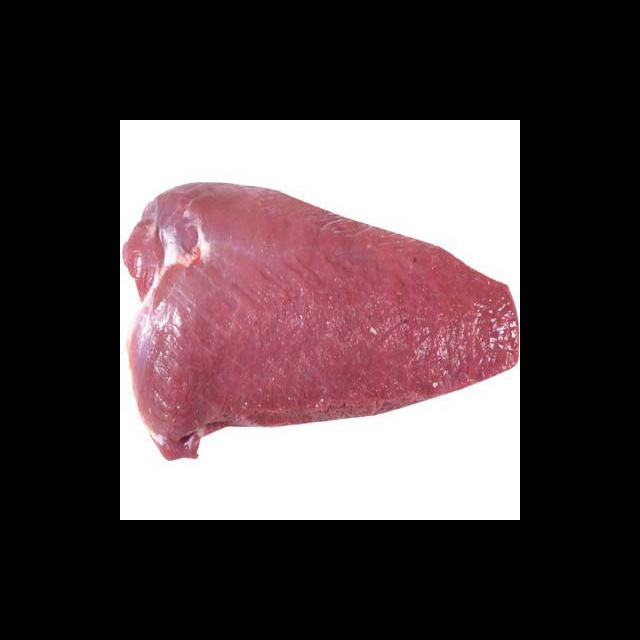beef: (128, 171, 515, 475)
